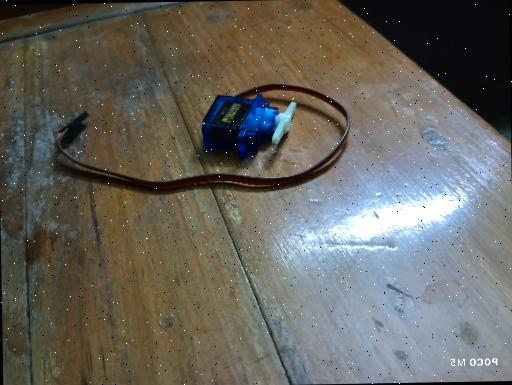Motor: (200, 92, 297, 156)
